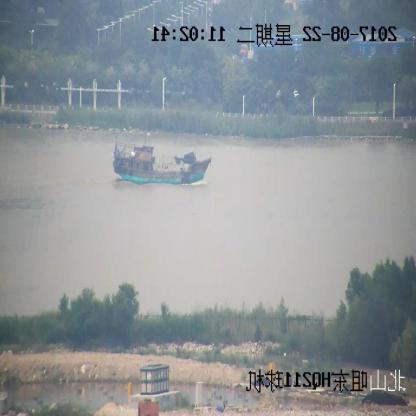Fishing Boat: (112, 142, 210, 186)
